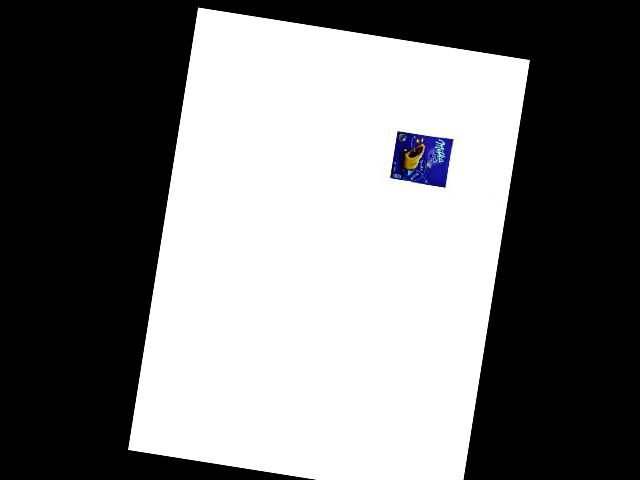chocolate: (385, 127, 457, 190)
